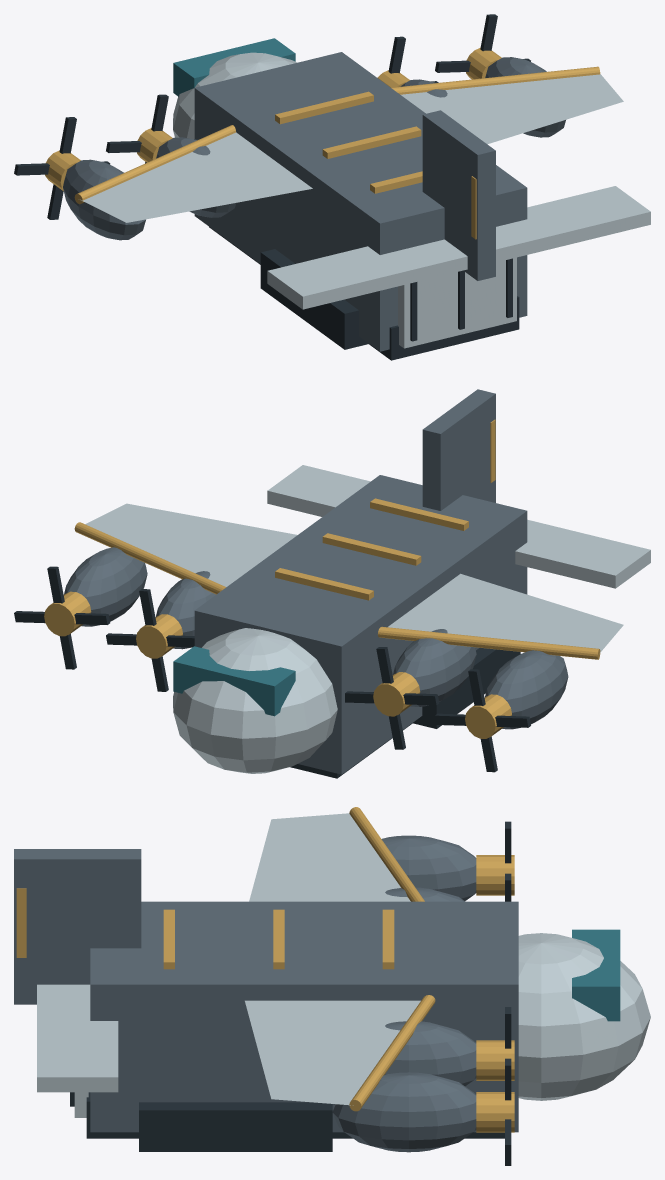
The model's file is cargo-aircraft.glb.
3 renders of one model, top to bottom at view 1: azimuth 30°, elevation 25°; view 2: azimuth 150°, elevation 25°; view 3: azimuth 270°, elevation 25°, orthographic. The views are drawn at different scales.
Visible parts, largest first — view 1: wide pressurized cargo hold, large high-mounted transport wing, single tall vertical stabilizer, large high-mounted transport wing.001, wide horizontal tailplane, wide horizontal tailplane.001, rear cargo ramp door, retracted main undercarriage fairing, turboprop engine nacelle.001, rounded flight deck, cockpit windshield, wing gold leading edge.001 (+11 smaller); view 2: wide pressurized cargo hold, rounded flight deck, large high-mounted transport wing, large high-mounted transport wing.001, single tall vertical stabilizer, wide horizontal tailplane, turboprop engine nacelle.001, turboprop engine nacelle.003, cockpit windshield, turboprop engine nacelle, wide horizontal tailplane.001, wing gold leading edge (+18 smaller); view 3: wide pressurized cargo hold, rounded flight deck, single tall vertical stabilizer, large high-mounted transport wing.001, large high-mounted transport wing, retracted main undercarriage fairing.001, turboprop engine nacelle.003, wide horizontal tailplane.001, turboprop engine nacelle.001, turboprop engine nacelle.002, cockpit windshield, wing gold leading edge.001 (+10 smaller).
Boxes of the visible parts, box(x1,y1,x2,y2) form: wide pressurized cargo hold: box(194, 52, 527, 351); large high-mounted transport wing: box(80, 132, 312, 222); single tall vertical stabilizer: box(422, 110, 495, 280); large high-mounted transport wing.001: box(400, 74, 623, 144); wide horizontal tailplane: box(267, 239, 467, 309); wide horizontal tailplane.001: box(496, 186, 650, 262); rear cargo ramp door: box(398, 257, 516, 348); retracted main undercarriage fairing: box(260, 249, 368, 349); turboprop engine nacelle.001: box(63, 159, 145, 240); rounded flight deck: box(173, 52, 296, 139); cockpit windshield: box(173, 38, 295, 96); wing gold leading edge.001: box(391, 66, 600, 94); wide pressurized cargo hold: box(194, 475, 527, 774); rounded flight deck: box(173, 628, 337, 773); large high-mounted transport wing: box(388, 573, 623, 652); large high-mounted transport wing.001: box(85, 503, 297, 586); single tall vertical stabilizer: box(422, 389, 495, 510); wide horizontal tailplane: box(515, 519, 650, 588); turboprop engine nacelle.001: box(485, 650, 568, 729); turboprop engine nacelle.003: box(64, 547, 147, 626); cockpit windshield: box(173, 646, 295, 716); turboprop engine nacelle: box(393, 629, 476, 706); wide horizontal tailplane.001: box(267, 465, 370, 516); wing gold leading edge: box(377, 626, 600, 659); wide pressurized cargo hold: box(90, 901, 518, 1132); rounded flight deck: box(518, 933, 650, 1100); single tall vertical stabilizer: box(14, 849, 141, 1004); large high-mounted transport wing.001: box(245, 1000, 420, 1105); large high-mounted transport wing: box(249, 813, 410, 901); retracted main undercarriage fairing.001: box(139, 1102, 332, 1151); turboprop engine nacelle.003: box(332, 1072, 476, 1152); wide horizontal tailplane.001: box(37, 984, 118, 1092); turboprop engine nacelle.001: box(381, 835, 476, 900); turboprop engine nacelle.002: box(385, 1021, 476, 1086); cockpit windshield: box(572, 929, 620, 1021); wing gold leading edge.001: box(349, 995, 435, 1111).
Bounding box in the file's own units: 2.73 × 1.08 × 2.5.
